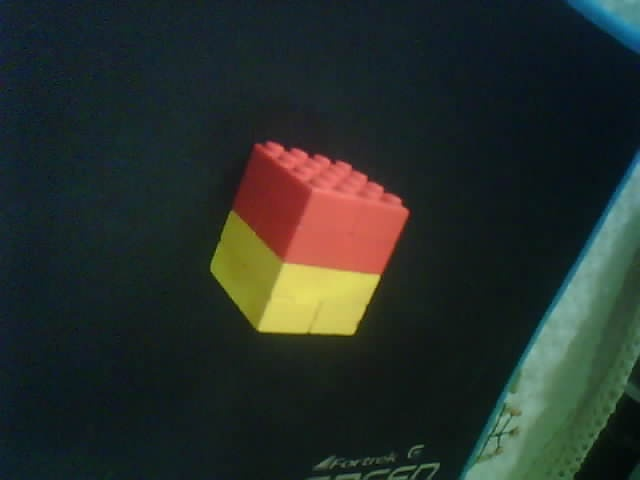lego: (207, 136, 411, 340)
